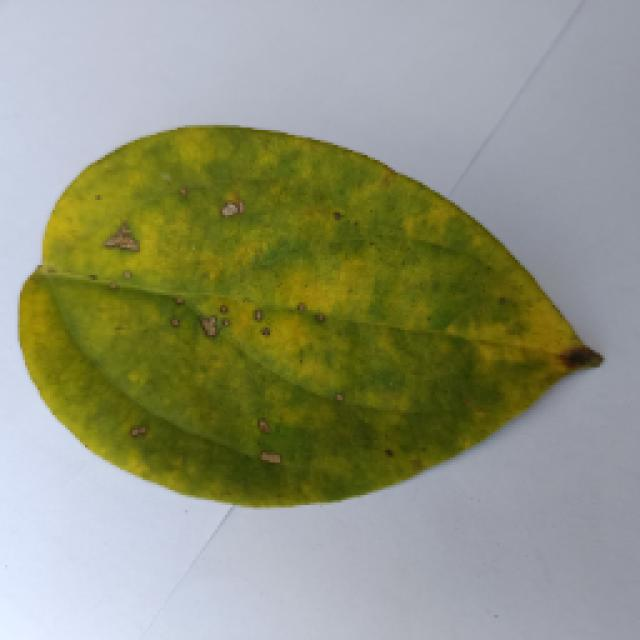slow-decline: (12, 118, 602, 518)
